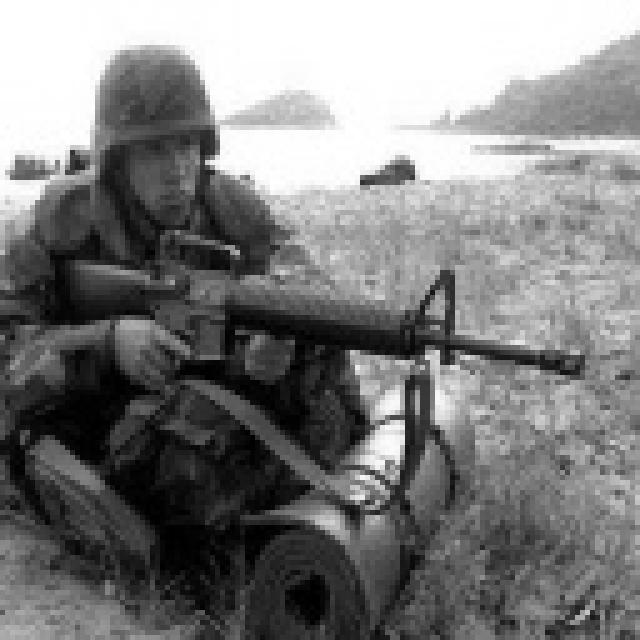Rifle: (0, 231, 597, 537)
